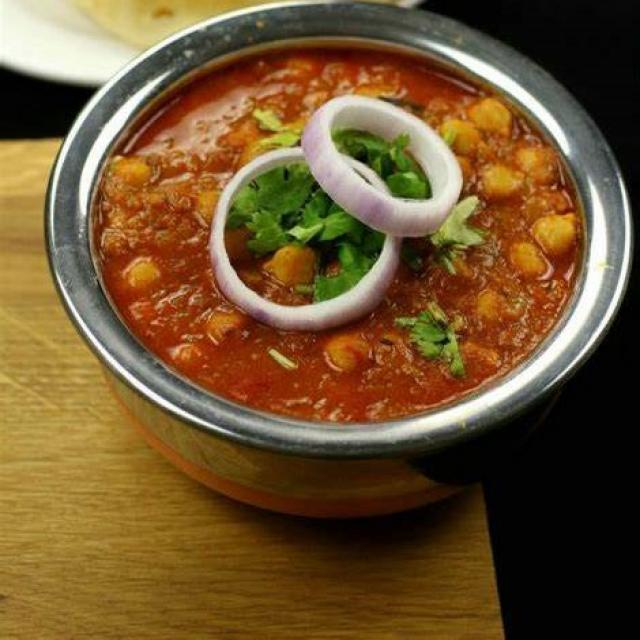Chole: (92, 46, 586, 424)
